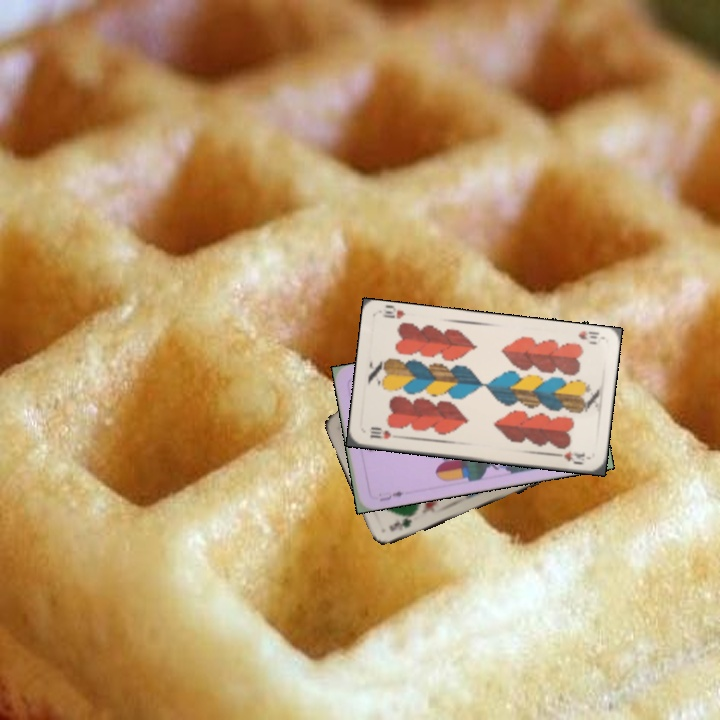EU: (375, 487, 406, 504)
GK: (385, 509, 421, 534)
H10: (366, 424, 393, 442), (574, 327, 602, 342)
